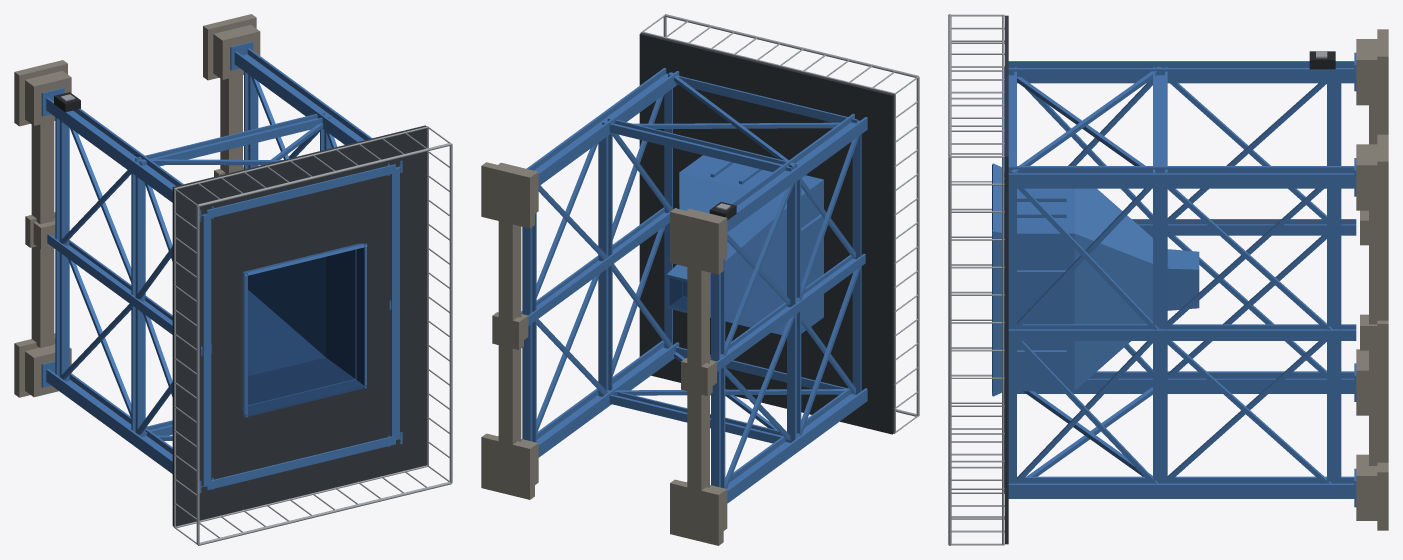
File: loading_hopper.obj
3 views of the same model, side by side, from view 1: azimuth 30°, elevation 25°; view 2: azimuth 150°, elevation 25°; view 3: azimuth 270°, elevation 25° (orthographic). The views are drawn at different scales.
Visible parts, largest first — view 1: platform, frame, hopper, concrete; view 2: frame, platform, concrete, hopper; view 3: frame, hopper, concrete, platform.
Part boxes in pixels (x1,y1,x2,y2): platform: (172,125,452,545); frame: (41,41,402,493); hopper: (242,243,367,417); concrete: (14,14,260,397); frame: (521,68,867,503); platform: (639,14,919,434); concrete: (481,162,727,545); hopper: (666,155,823,334); frame: (1004,52,1356,507); hopper: (992,163,1199,396); concrete: (1356,29,1388,530); platform: (948,14,1008,545).
Size of the model in its own units: 6.5 by 8.3 by 8.48.
